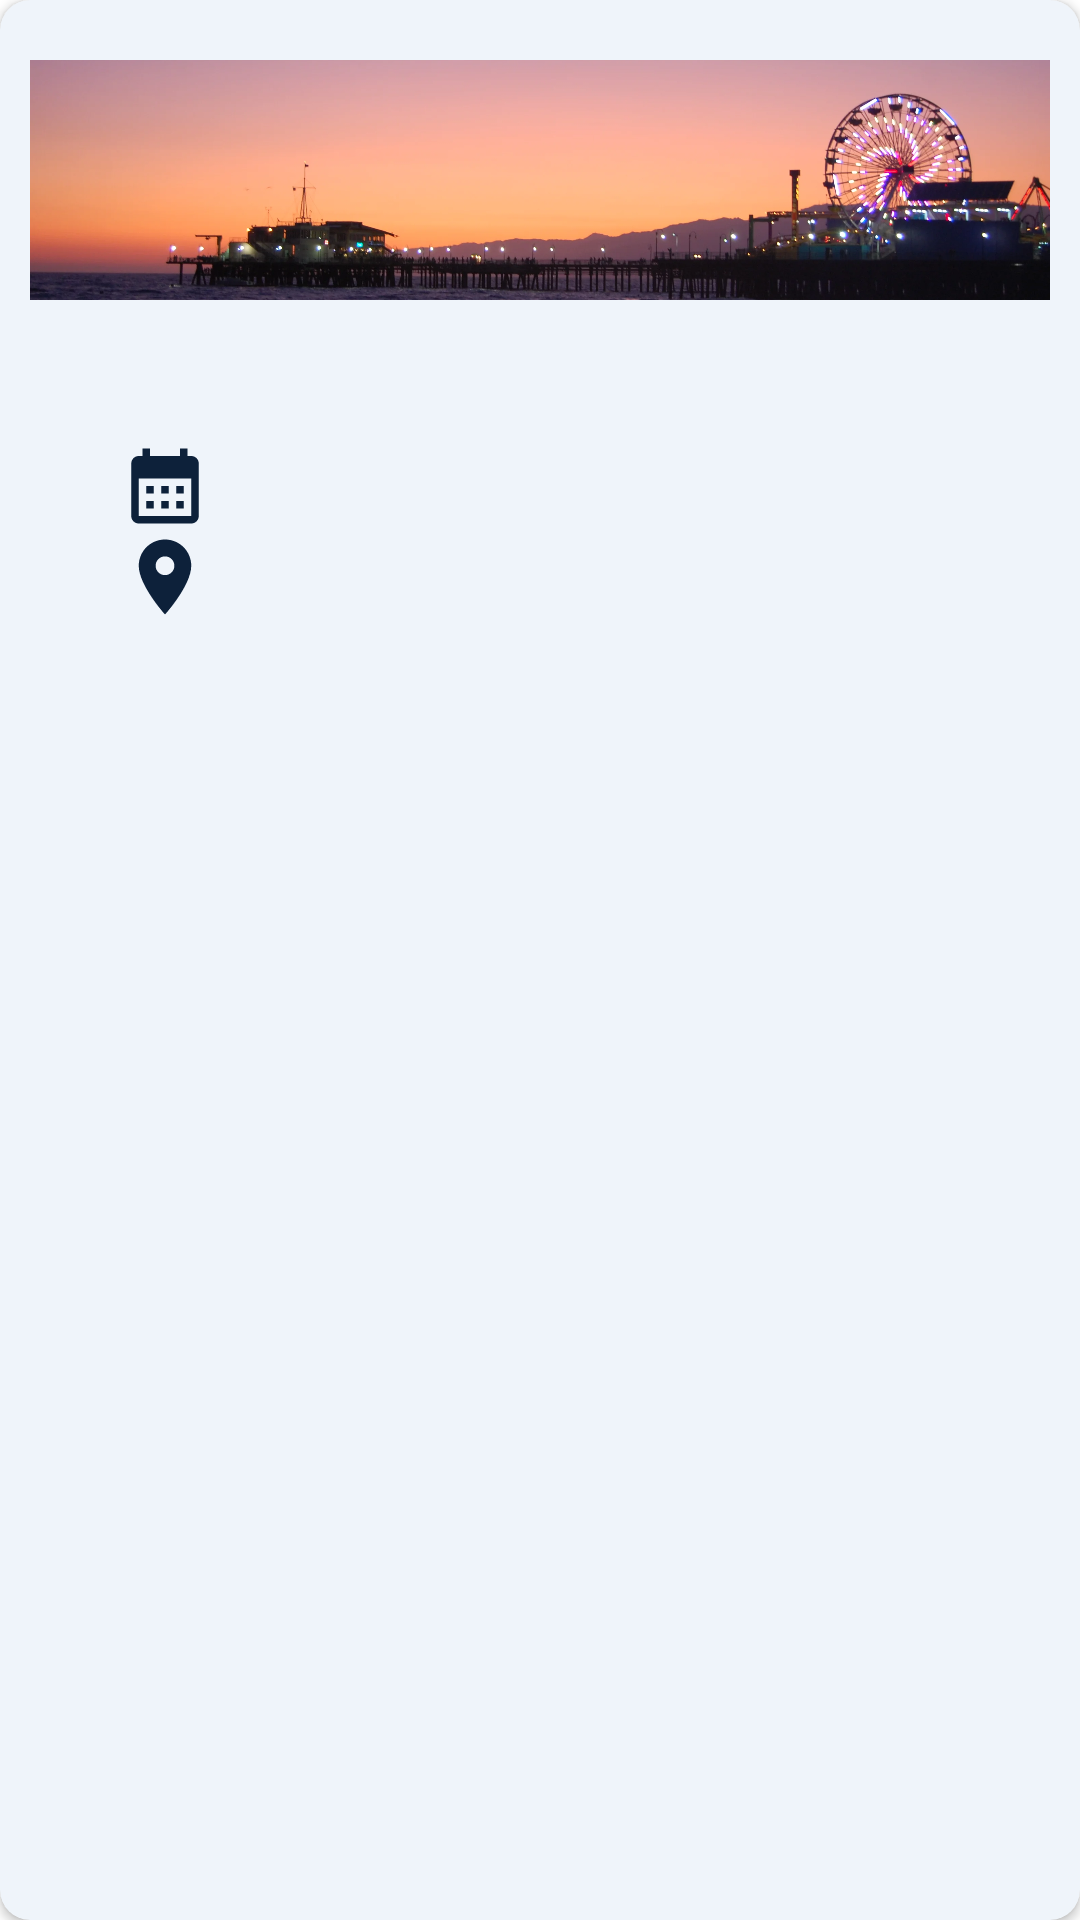

Icons on this 1080w x 1920h Android screen, each with its box as (x1, y1, x2, y2):
calendar: (131, 448, 199, 524)
location: (138, 539, 192, 614)
